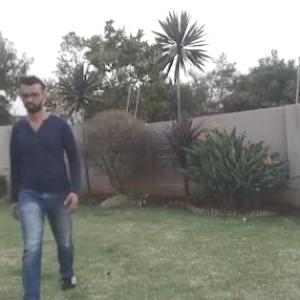follow: (10, 79, 67, 280)
